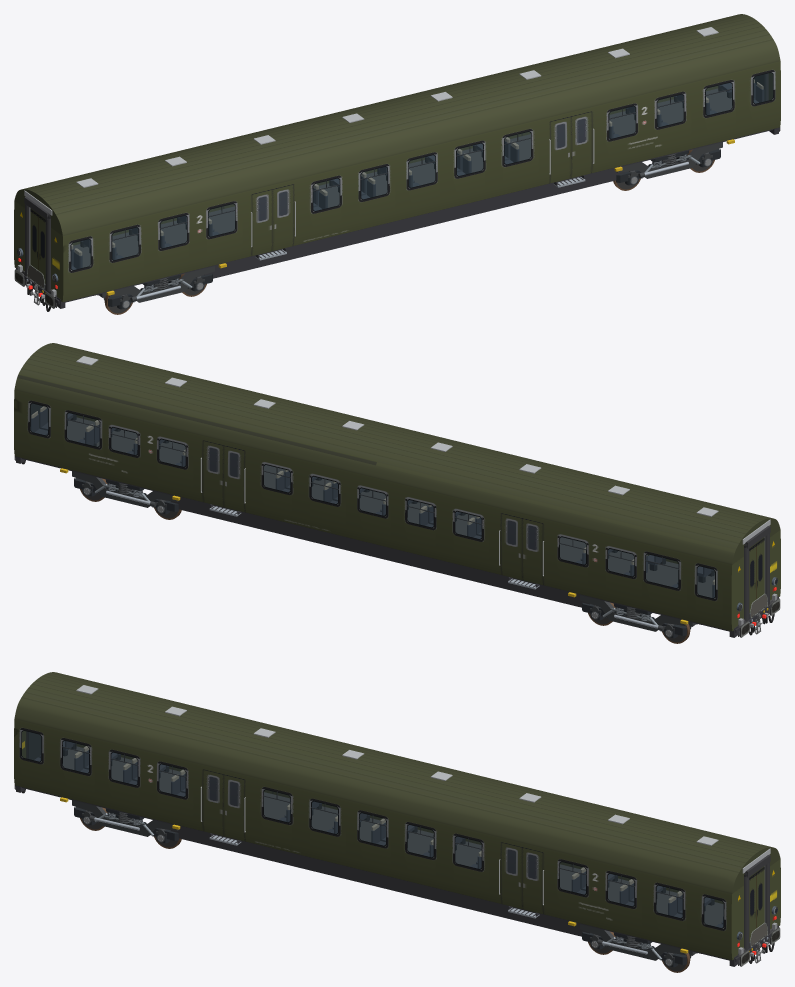
The model's file is RET.glb.
The picture shows the model from 3 angles, top to bottom: view 1: azimuth 30°, elevation 25°; view 2: azimuth 150°, elevation 25°; view 3: azimuth 330°, elevation 25°; orthographic projection.
Parts seen in each view (by area): view 1: RET_pudlo, Szyby boczne i uszczelki, Wnętrze pasażerskie, RET_rama, RET_guma_det, RET_wozek, RET_went, RET_harm, RET_tlum, Pomost, osprzęt przejścia i zderzaki, Rama, zawieszenie i hamulce, Rama, zawieszenie i hamulce.001; view 2: RET_pudlo, Szyby boczne i uszczelki, Wnętrze pasażerskie, RET_rama, RET_guma_det, RET_wozek, RET_went, RET_harm, RET_tlum, Pomost, osprzęt przejścia i zderzaki, Rama, zawieszenie i hamulce, Rama, zawieszenie i hamulce.001; view 3: RET_pudlo, Szyby boczne i uszczelki, Wnętrze pasażerskie, RET_rama, RET_guma_det, RET_wozek, RET_went, RET_harm, RET_tlum, Pomost, osprzęt przejścia i zderzaki, Rama, zawieszenie i hamulce.001, Rama, zawieszenie i hamulce.
Part boxes in pixels (<box>): RET_pudlo: <box>14,14,780,302</box>; Szyby boczne i uszczelki: <box>70,72,773,270</box>; Wnętrze pasażerskie: <box>71,74,766,269</box>; RET_rama: <box>16,127,779,308</box>; RET_guma_det: <box>27,70,775,311</box>; RET_wozek: <box>97,142,722,308</box>; RET_went: <box>76,27,718,187</box>; RET_harm: <box>24,73,768,291</box>; RET_tlum: <box>26,161,688,299</box>; Pomost, osprzęt przejścia i zderzaki: <box>14,127,780,308</box>; Rama, zawieszenie i hamulce: <box>108,273,212,309</box>; Rama, zawieszenie i hamulce.001: <box>616,149,720,185</box>; RET_pudlo: <box>14,343,780,631</box>; Szyby boczne i uszczelki: <box>29,402,715,598</box>; Wnętrze pasażerskie: <box>30,403,714,597</box>; RET_rama: <box>15,456,778,637</box>; RET_guma_det: <box>22,400,774,635</box>; RET_wozek: <box>72,471,697,637</box>; RET_went: <box>76,356,718,516</box>; RET_harm: <box>744,526,770,620</box>; RET_tlum: <box>106,490,752,628</box>; Pomost, osprzęt przejścia i zderzaki: <box>14,456,780,637</box>; Rama, zawieszenie i hamulce: <box>582,602,686,638</box>; Rama, zawieszenie i hamulce.001: <box>74,478,178,514</box>; RET_pudlo: <box>14,672,780,960</box>; Szyby boczne i uszczelki: <box>21,730,724,928</box>; Wnętrze pasażerskie: <box>28,732,723,927</box>; RET_rama: <box>15,785,778,966</box>; RET_guma_det: <box>19,728,774,963</box>; RET_wozek: <box>72,800,697,966</box>; RET_went: <box>76,685,718,845</box>; RET_harm: <box>26,731,770,949</box>; RET_tlum: <box>94,817,768,954</box>; Pomost, osprzęt przejścia i zderzaki: <box>14,785,780,966</box>; Rama, zawieszenie i hamulce.001: <box>582,931,686,967</box>; Rama, zawieszenie i hamulce: <box>74,807,178,843</box>.
Size of the model in its own units: 24.5 by 4.07 by 2.98.
40 materials, 2 textured.
